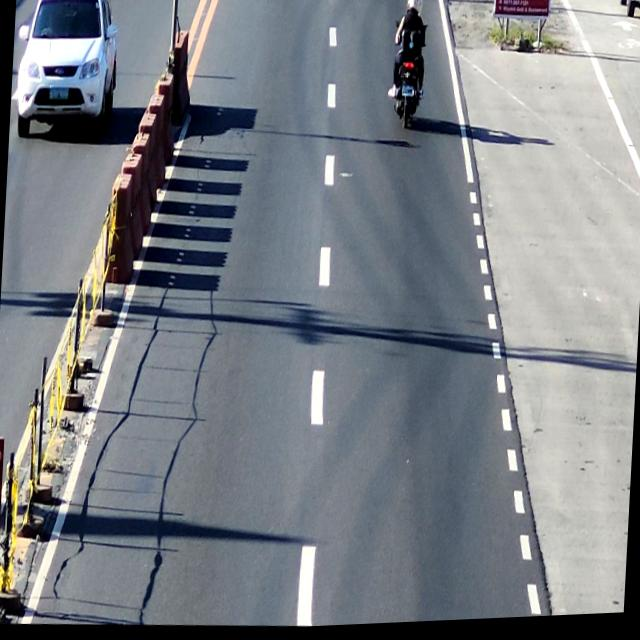Motorcycle: (389, 0, 429, 130)
